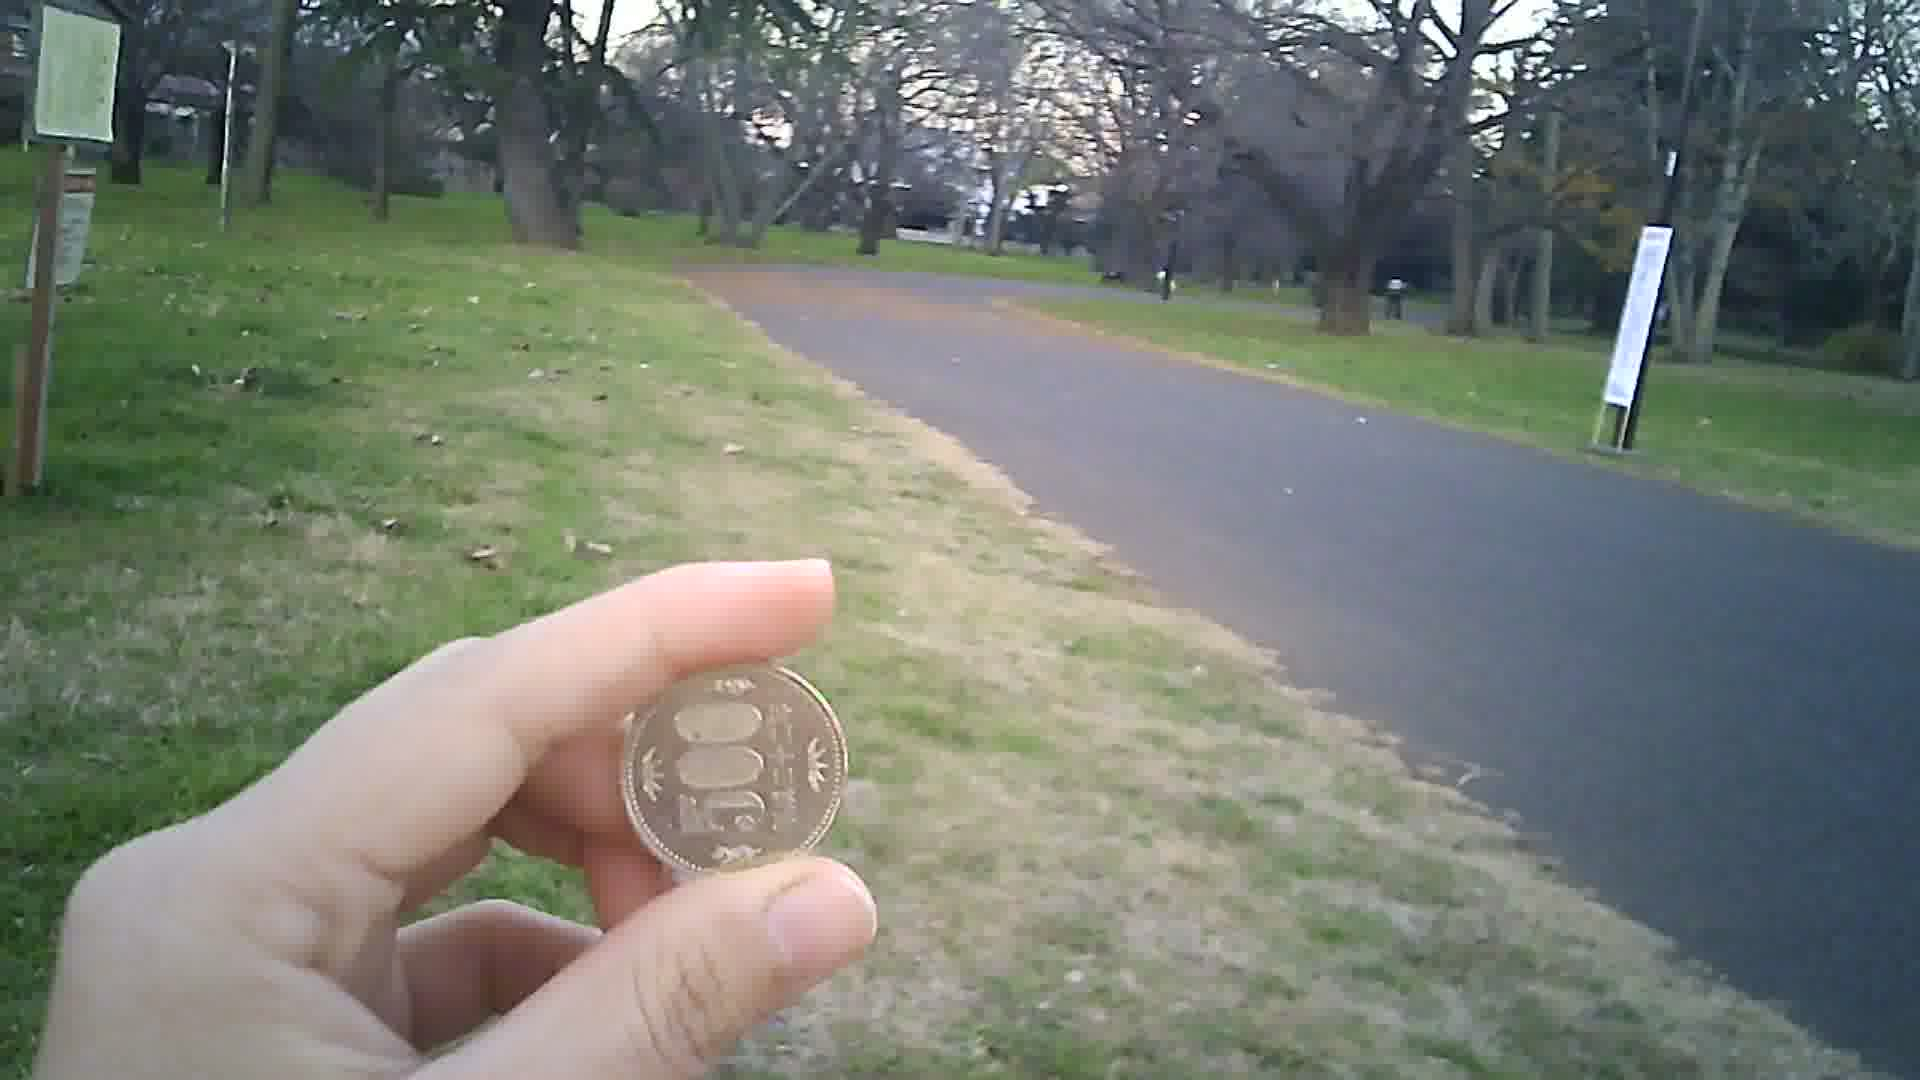500 Yen: (615, 651, 861, 878)
